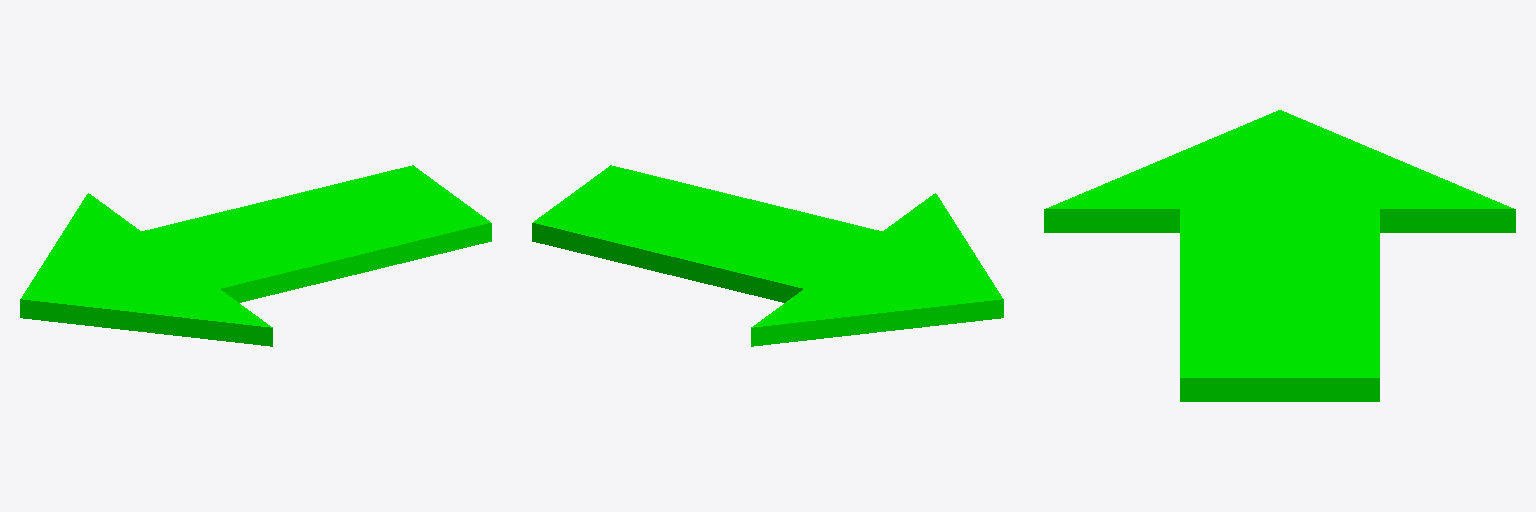
The robot description file, URDF, robot "arrow_goal":
<?xml version="1.0"?>
<robot name="arrow_goal">
  <link name="arrow_goal">
    <visual>
      <origin xyz="0 0 0"/>
      <geometry>
        <mesh filename="meshes/arrow.obj" scale="1.5 1.5 1.5"/>
      </geometry>
      <material name="green">
        <color rgba="0 1 0 1" />
      </material>
    </visual>
    <inertial>
      <density value="567.0"/>
    </inertial>
  </link>
</robot>

--- What the picture shows (computed from the rendered views, not written in the file) ---
The picture shows the robot from 3 angles, left to right: view 1: azimuth 30°, elevation 25°; view 2: azimuth 150°, elevation 25°; view 3: azimuth 270°, elevation 25°; orthographic projection.
Model arrow_goal with 1 links and 0 joints (none), rooted at arrow_goal, posed every joint at zero.
Visible links, largest first — view 1: arrow_goal; view 2: arrow_goal; view 3: arrow_goal.
Link boxes in pixels (x1=…): arrow_goal: x1=20, y1=165, x2=491, y2=346; arrow_goal: x1=532, y1=165, x2=1003, y2=346; arrow_goal: x1=1044, y1=110, x2=1515, y2=401.
Size in the robot's own frame: 0.0715 by 0.053 by 0.003 metres.
1 mesh visuals loaded from 1 distinct referenced files (1 OBJ).